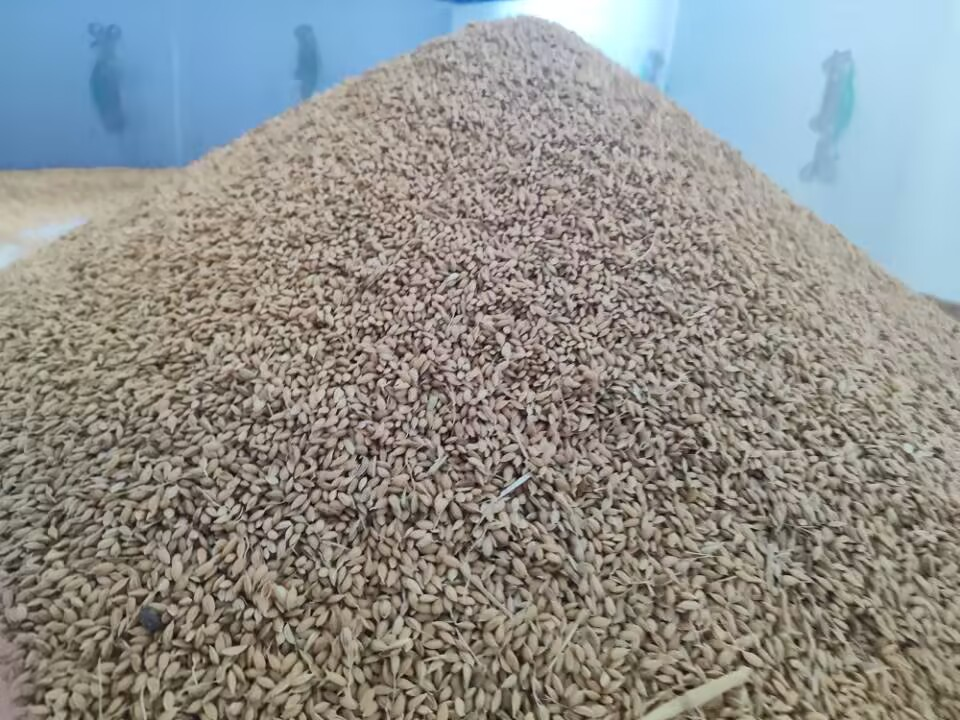Grain: (89, 5, 943, 673)
